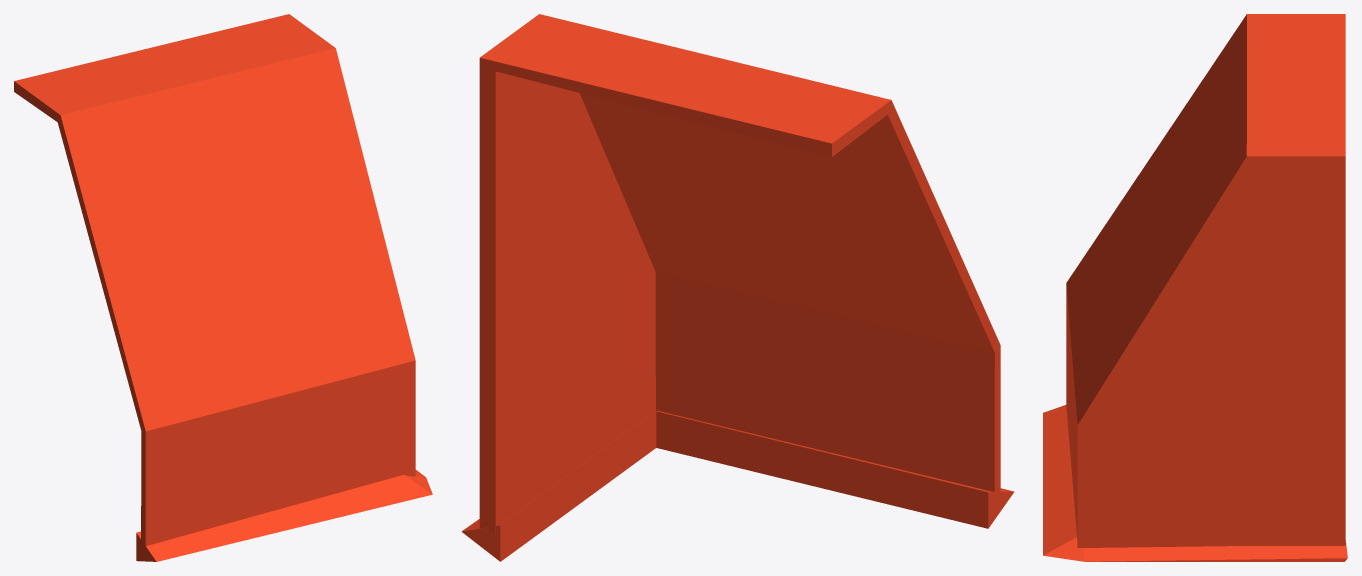
Rendered from SM_Awning_A_End_A_City.fbx.
The picture shows the model from 3 angles, left to right: view 1: azimuth 30°, elevation 25°; view 2: azimuth 150°, elevation 25°; view 3: azimuth 270°, elevation 25°; orthographic projection. The views are drawn at different scales.
Parts seen in each view (by area): view 1: SM_Awning_A_End_A_City; view 2: SM_Awning_A_End_A_City; view 3: SM_Awning_A_End_A_City.
Boxes of the visible parts, box(x1,y1,x2,y2) form: SM_Awning_A_End_A_City: box(14, 14, 432, 561); SM_Awning_A_End_A_City: box(461, 14, 1014, 561); SM_Awning_A_End_A_City: box(1043, 14, 1347, 561).
Size of the model in its own units: 0.7597 by 0.9828 by 0.6561.
